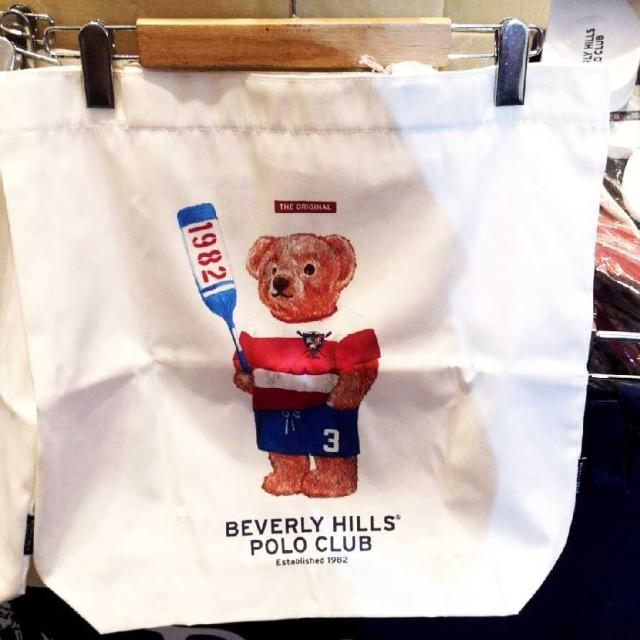Handbag: (0, 39, 602, 633)
